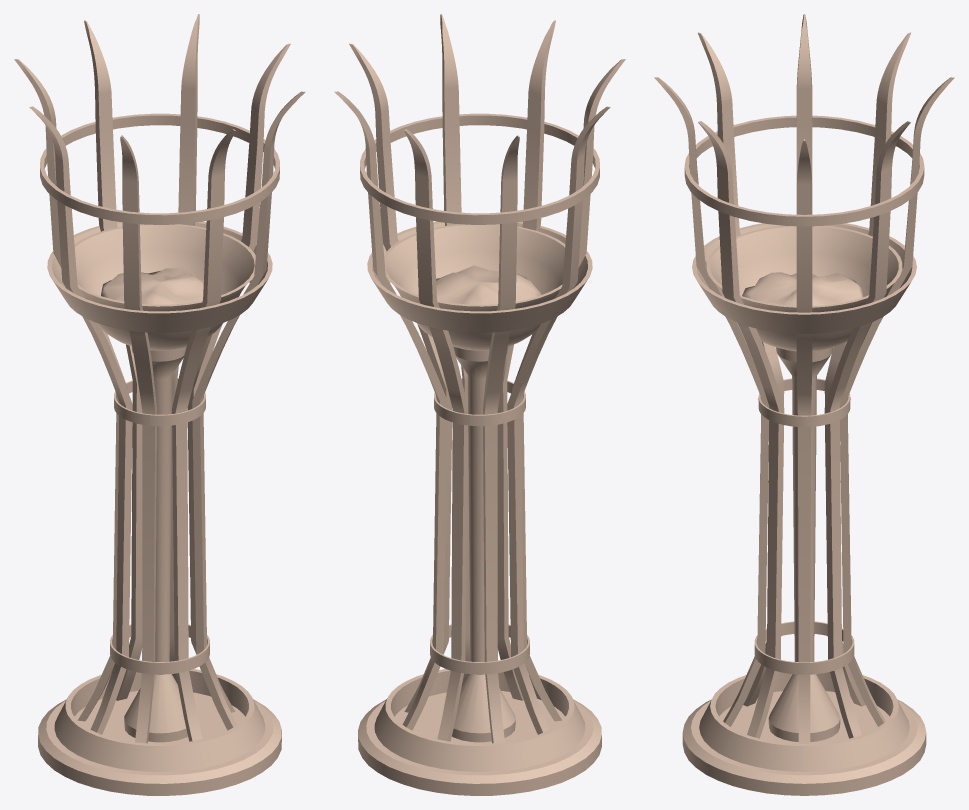
The model's file is Brazier_Final.fbx.
3 renders of one model, left to right at view 1: azimuth 30°, elevation 25°; view 2: azimuth 150°, elevation 25°; view 3: azimuth 270°, elevation 25°, orthographic.
Visible parts, largest first — view 1: Brazier_Final; view 2: Brazier_Final; view 3: Brazier_Final.
Part boxes in pixels (x1,y1,x2,y2): Brazier_Final: (14, 14, 305, 795); Brazier_Final: (334, 14, 625, 795); Brazier_Final: (654, 14, 954, 795).
Size of the model in its own units: 86.37 by 211 by 86.37.
